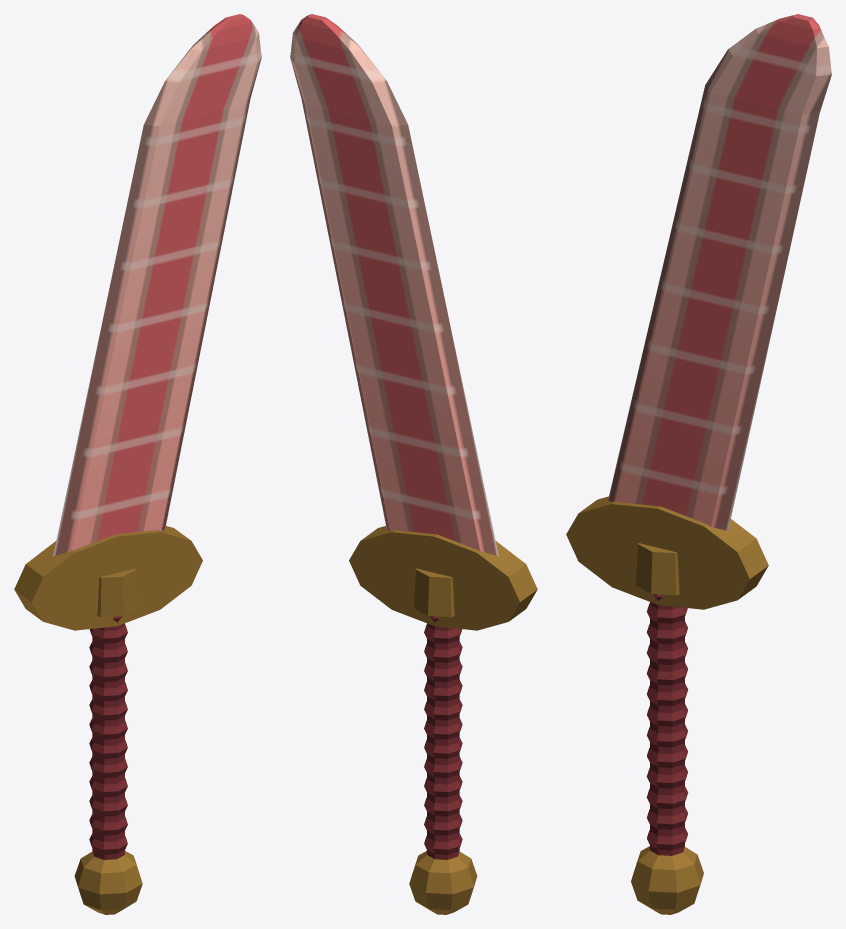
The model's file is coral_sword.obj.
3 renders of one model, left to right at view 1: azimuth 30°, elevation 25°; view 2: azimuth 150°, elevation 25°; view 3: azimuth 330°, elevation 25°, orthographic. The views are drawn at different scales.
Visible parts, largest first — view 1: A_Blade.001_coral_sword_blade, B_Guard.001_coral_sword_fittings, C_Grip.001_coral_sword_grip, C_Pommel.001_coral_sword_fittings, B_Collar.001_coral_sword_fittings; view 2: A_Blade.001_coral_sword_blade, B_Guard.001_coral_sword_fittings, C_Grip.001_coral_sword_grip, C_Pommel.001_coral_sword_fittings, B_Collar.001_coral_sword_fittings; view 3: A_Blade.001_coral_sword_blade, B_Guard.001_coral_sword_fittings, C_Grip.001_coral_sword_grip, C_Pommel.001_coral_sword_fittings, B_Collar.001_coral_sword_fittings.
Part boxes in pixels (<box>): A_Blade.001_coral_sword_blade: <box>53,14,261,556</box>; B_Guard.001_coral_sword_fittings: <box>14,526,202,630</box>; C_Grip.001_coral_sword_grip: <box>89,616,127,859</box>; C_Pommel.001_coral_sword_fittings: <box>74,851,142,914</box>; B_Collar.001_coral_sword_fittings: <box>97,568,138,617</box>; A_Blade.001_coral_sword_blade: <box>290,14,498,556</box>; B_Guard.001_coral_sword_fittings: <box>349,526,537,630</box>; C_Grip.001_coral_sword_grip: <box>424,616,462,859</box>; C_Pommel.001_coral_sword_fittings: <box>409,851,477,914</box>; B_Collar.001_coral_sword_fittings: <box>413,568,454,617</box>; A_Blade.001_coral_sword_blade: <box>608,14,831,530</box>; B_Guard.001_coral_sword_fittings: <box>566,496,768,609</box>; C_Grip.001_coral_sword_grip: <box>646,594,688,855</box>; C_Pommel.001_coral_sword_fittings: <box>631,846,703,914</box>; B_Collar.001_coral_sword_fittings: <box>635,543,679,595</box>.
Size of the model in its own units: 1.17 by 4.05 by 0.3.
3 materials, 1 textured.
